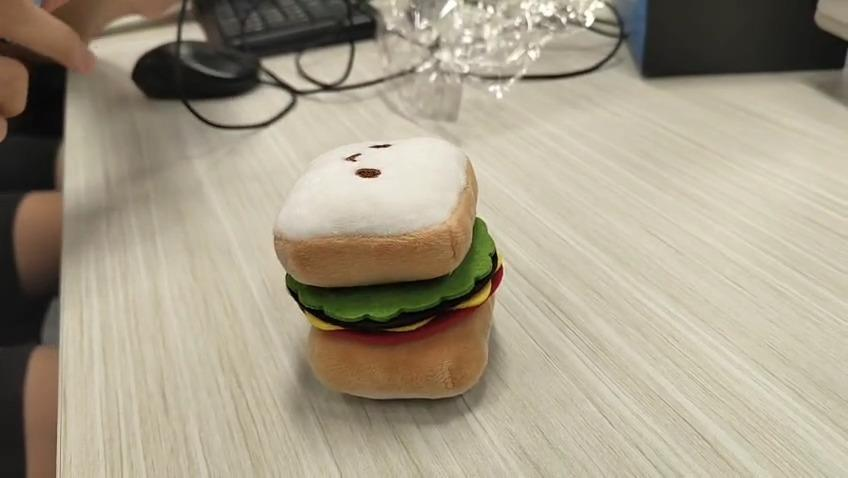objects: (272, 137, 504, 399)
